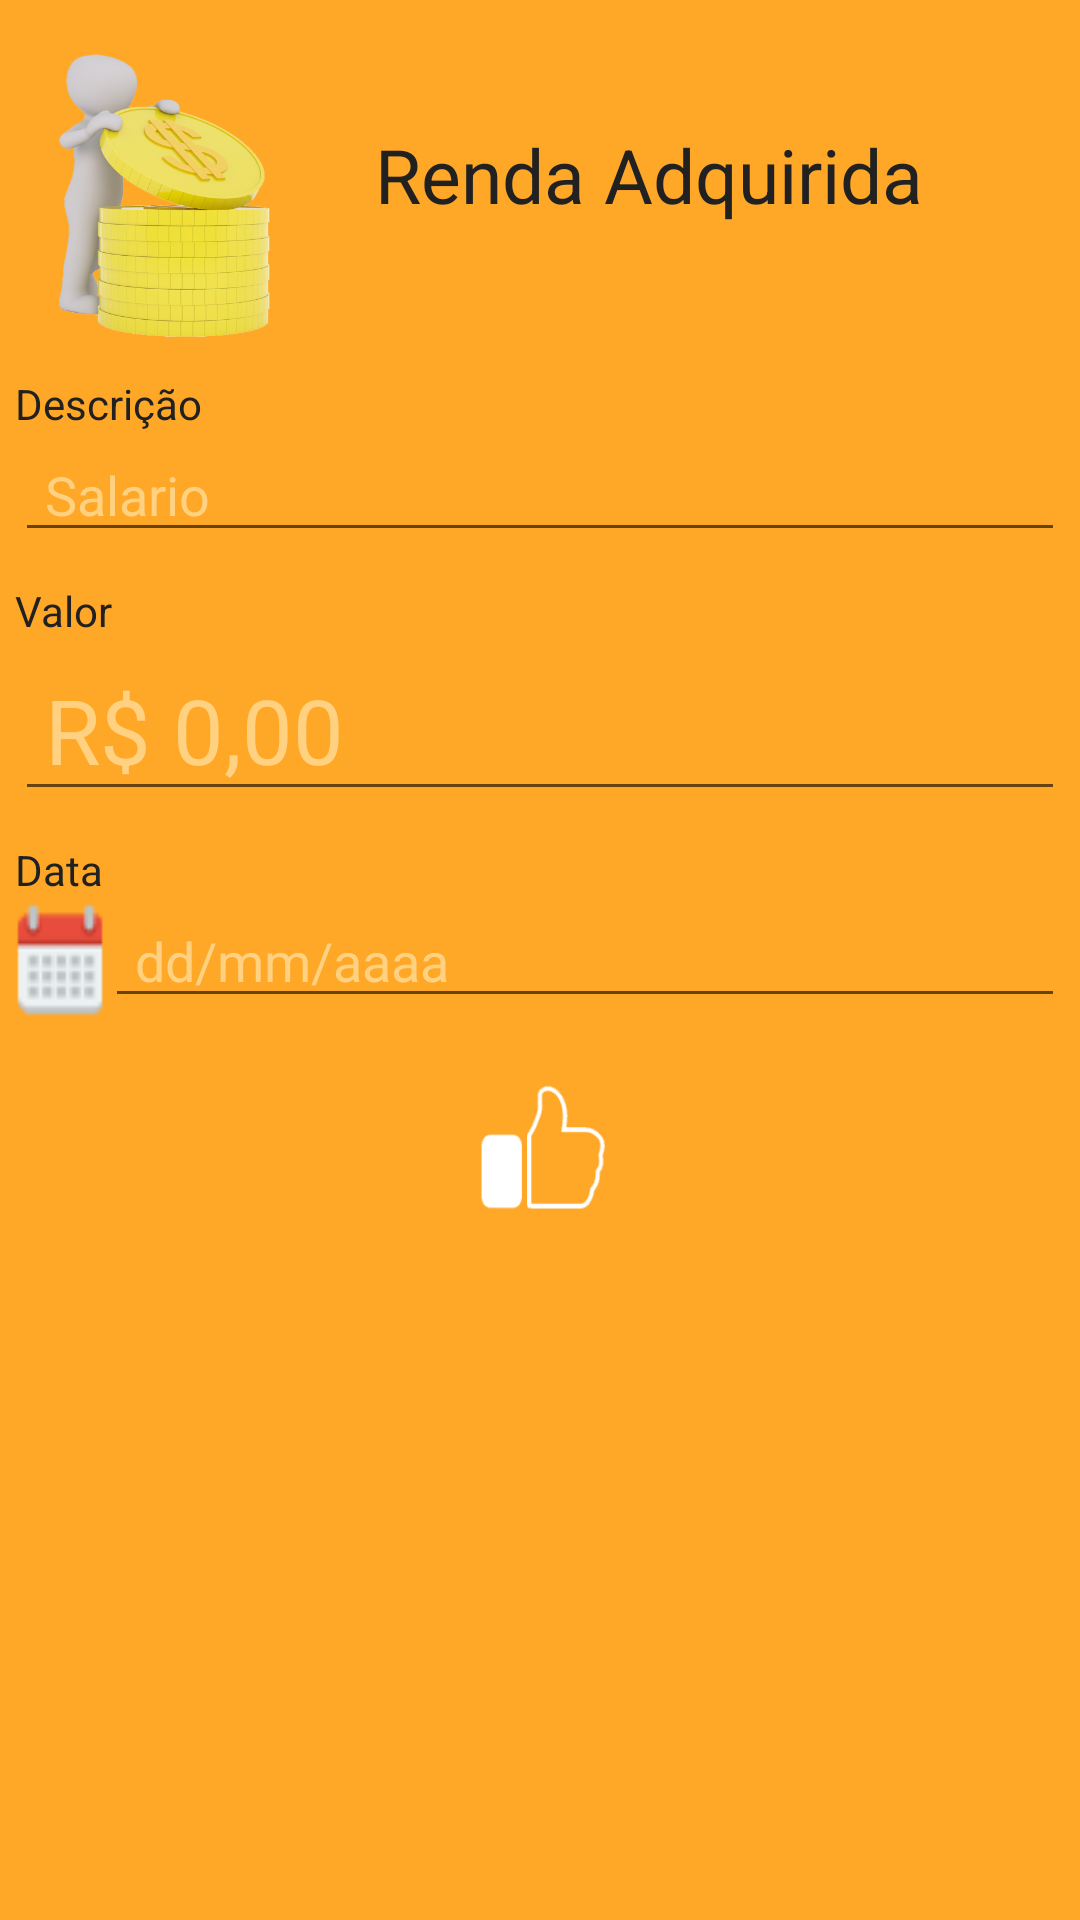

Icons on this 1080px x 1920px Android screen, each with the point to tap as [x,y]:
calendar: [60,959]
